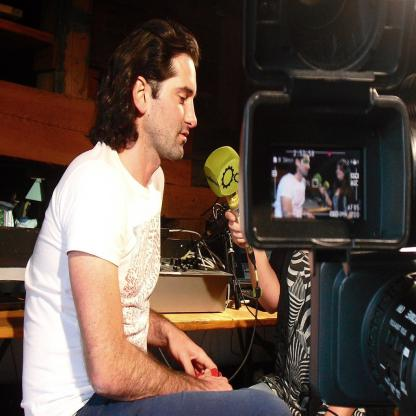Camera: (241, 1, 416, 416)
